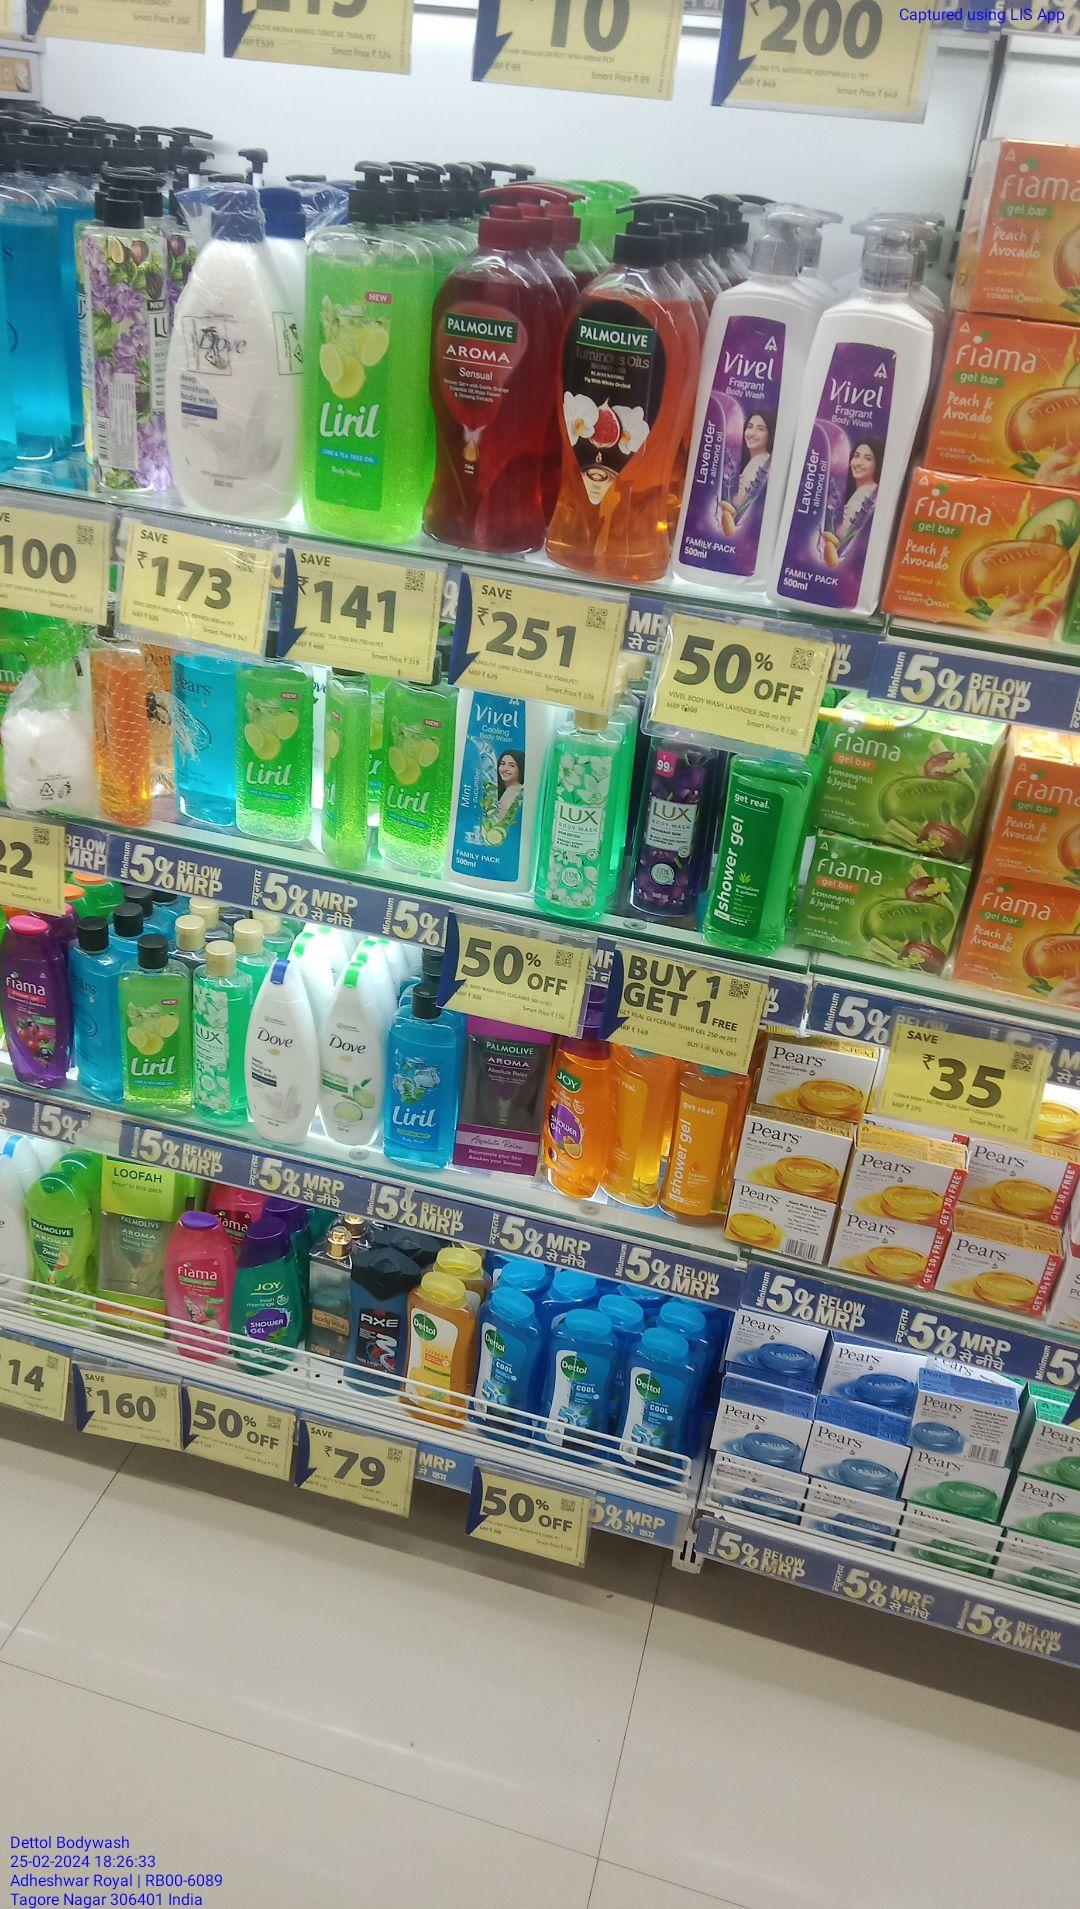Dettol_Bodywash_Cool: (621, 1333, 689, 1491), (543, 1320, 608, 1462), (477, 1295, 535, 1447)
Dettol_Bodywash_Refresh: (404, 1280, 471, 1428)
Dove_Deep_Moisture_Body_Wash_250ML: (245, 961, 318, 1145)
Dove_Refreshing_Body_Wash_250ML: (320, 966, 381, 1146)
Fiama_Shower_Gel_Patchouli_and_Macadamia_250ML: (163, 1219, 228, 1362)
Joy_Shower_Gel_Mandarin_and_Lemongrass_250ML: (547, 1031, 607, 1201)
Joy_Shower_Gel_Mint_and_Eucalyptus_250ML: (235, 1229, 301, 1375)
Liril_Cooling_Mint_Body_Wash_250ML: (385, 985, 456, 1168)
Liril_Lime_and_Tea_Tree_Oil_Body_Wash_250ML: (380, 645, 457, 869), (237, 631, 316, 840), (121, 941, 190, 1105), (325, 669, 370, 872)
Lux_Black_Orchid_Scent_and_Juniper_Oil_Body_Wash_245ML: (637, 736, 706, 924)
Lux_Body_Wash_Skin_Detox_Freesia_Scent_and_Alove_Vera_245ML: (533, 704, 620, 916), (197, 944, 244, 1128)
Palmolive_Aroma_Morning_Tonic_Shower_Gel_250ML: (24, 1179, 89, 1327)
Pears_Pure_Glycerin_and_Mint_Extracts_Body_Wash_250ML: (170, 645, 233, 827), (66, 924, 119, 1101)
